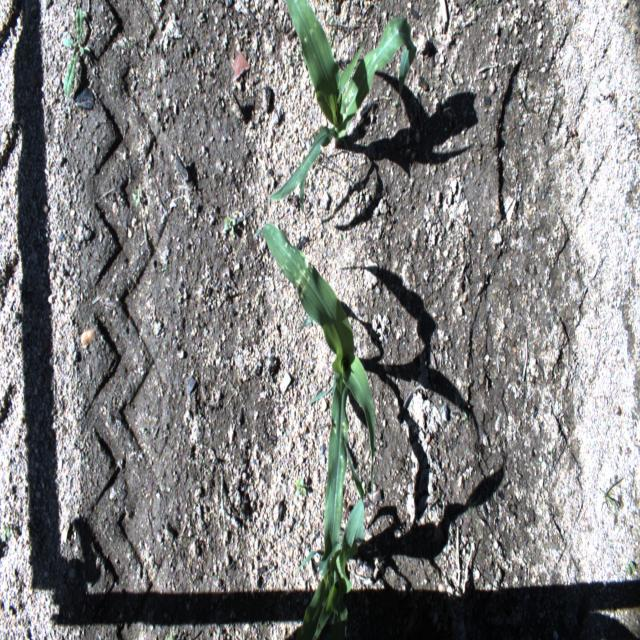crop: (261, 222, 376, 544), (270, 0, 415, 197), (294, 524, 360, 639)
weed: (66, 9, 88, 95), (225, 213, 234, 237), (1, 522, 11, 543), (294, 480, 307, 496), (133, 186, 140, 209), (626, 560, 636, 574), (604, 494, 616, 505), (466, 376, 472, 391), (463, 408, 468, 420), (166, 632, 173, 640)
